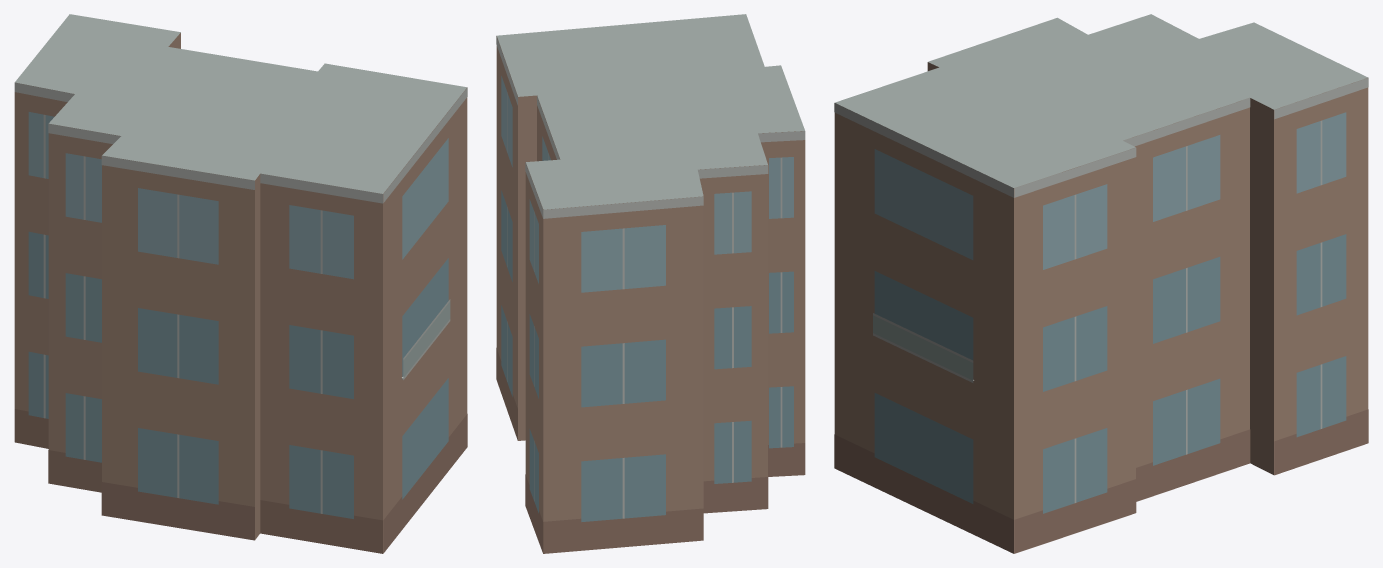
File: survey-upis-32696428.glb
3 views of the same model, side by side, from view 1: azimuth 30°, elevation 25°; view 2: azimuth 150°, elevation 25°; view 3: azimuth 270°, elevation 25° (orthographic). The views are drawn at different scales.
Parts seen in each view (by area): view 1: survey-upis-32696428.tmp; view 2: survey-upis-32696428.tmp; view 3: survey-upis-32696428.tmp.
Part boxes in pixels (bbox=[...]): survey-upis-32696428.tmp: bbox=[14, 14, 467, 553]; survey-upis-32696428.tmp: bbox=[496, 14, 805, 553]; survey-upis-32696428.tmp: bbox=[834, 14, 1368, 553].
Bounding box in the file's own units: 9.36 × 9.15 × 12.12.
